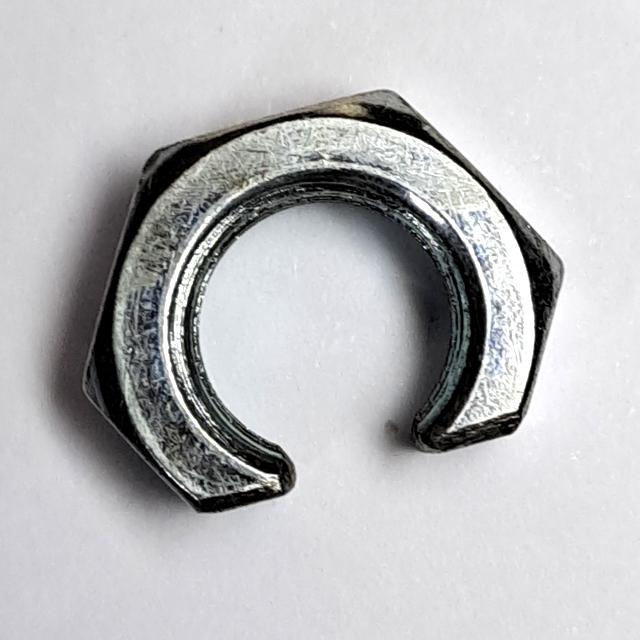Fracture: (66, 79, 573, 528)
